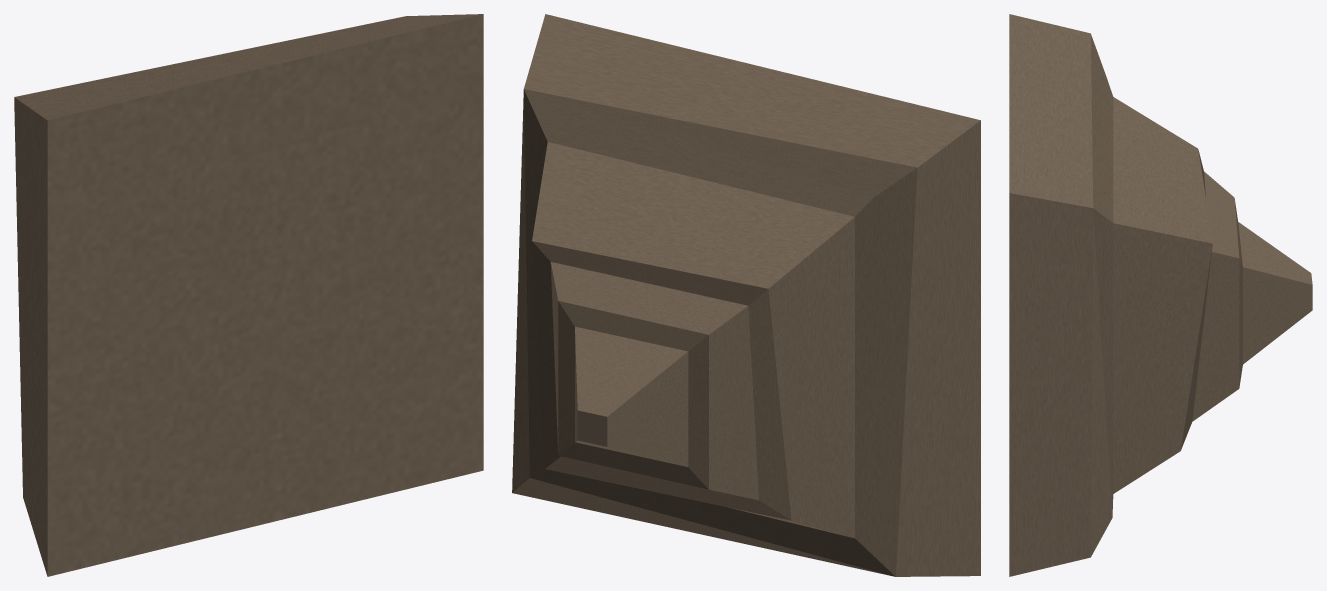
Rendered from desert_share_piramid_1.FBX.
3 views of the same model, side by side, from view 1: azimuth 30°, elevation 25°; view 2: azimuth 150°, elevation 25°; view 3: azimuth 270°, elevation 25° (orthographic). The views are drawn at different scales.
Visible parts, largest first — view 1: desert_pyramid_1; view 2: desert_pyramid_1; view 3: desert_pyramid_1.
Part boxes in pixels (bbox=[...]): desert_pyramid_1: bbox=[14, 14, 483, 576]; desert_pyramid_1: bbox=[512, 14, 980, 576]; desert_pyramid_1: bbox=[1009, 14, 1312, 576].
Bounding box in the file's own units: 340 × 340 × 243.
